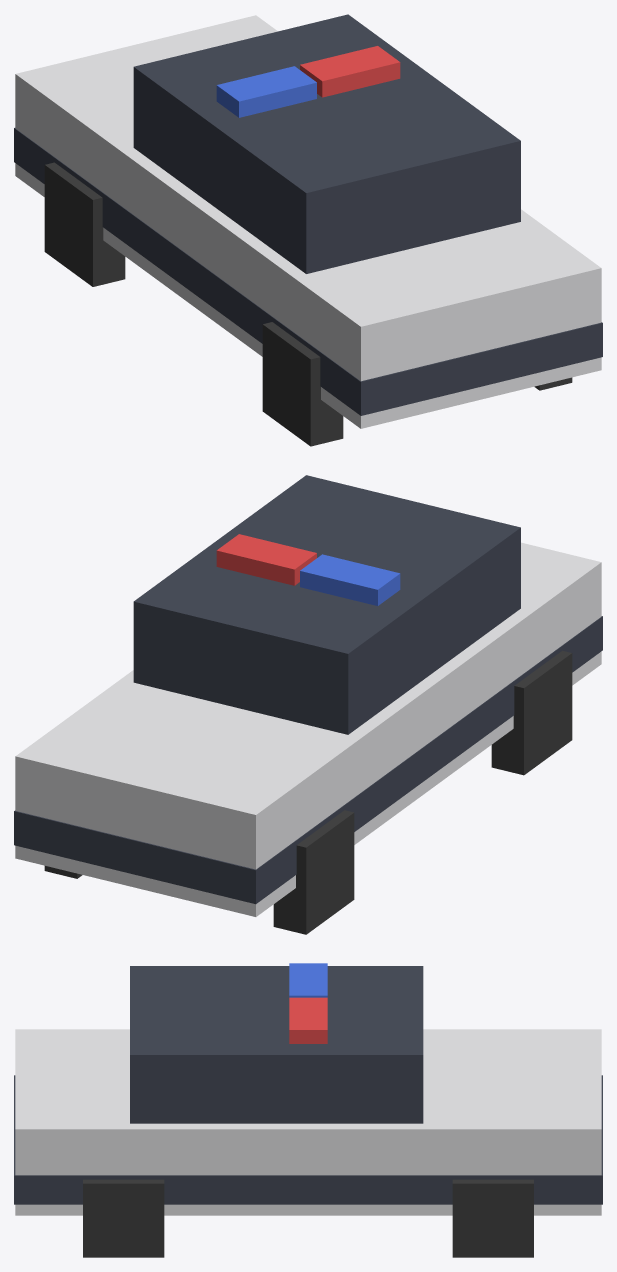
Rendered from SM_Patrulla.fbx.
3 views of the same model, one above another, from view 1: azimuth 30°, elevation 25°; view 2: azimuth 150°, elevation 25°; view 3: azimuth 270°, elevation 25° (orthographic). The views are drawn at different scales.
Visible parts, largest first — view 1: SM_Patrulla; view 2: SM_Patrulla; view 3: SM_Patrulla.
Boxes of the visible parts, left/top/right/bottom form: SM_Patrulla: left=14, top=14, right=602, bottom=446; SM_Patrulla: left=14, top=475, right=602, bottom=934; SM_Patrulla: left=14, top=963, right=602, bottom=1257.
Size of the model in its own units: 2.01 by 1.79 by 4.62.
